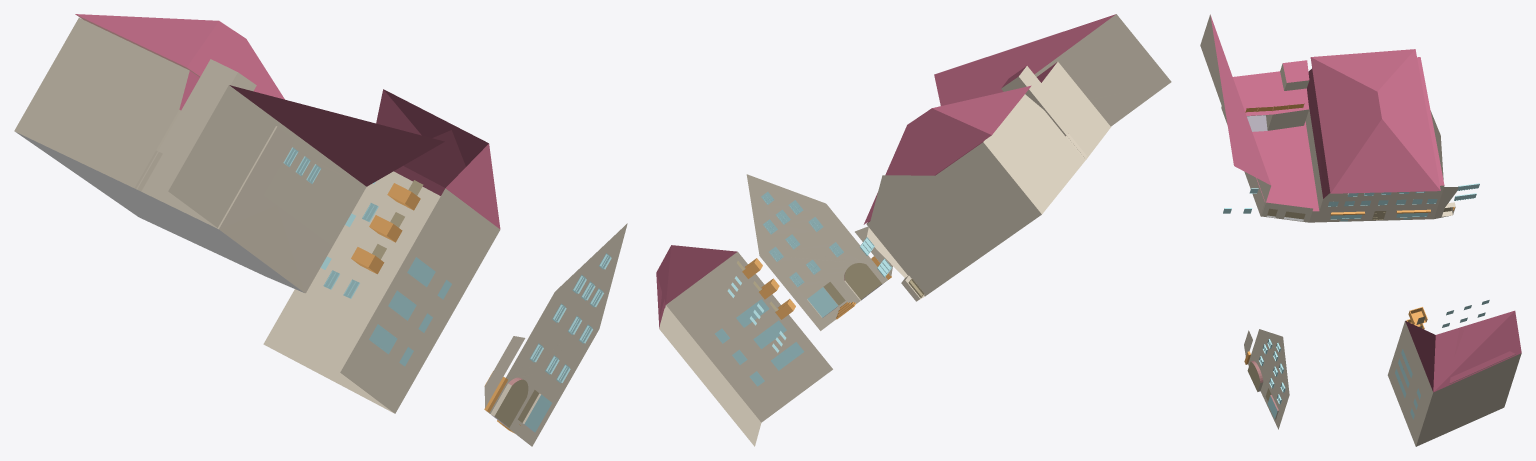
3 renders of one model, left to right at view 1: azimuth 30°, elevation 25°; view 2: azimuth 150°, elevation 25°; view 3: azimuth 270°, elevation 25°, orthographic. The views are drawn at different scales.
Visible parts, largest first — view 1: mesh; view 2: mesh; view 3: mesh.
Boxes of the visible parts, bbox=[...] form: mesh: bbox=[14, 14, 627, 446]; mesh: bbox=[656, 14, 1171, 446]; mesh: bbox=[1200, 14, 1521, 446].
Size of the model in its own units: 44 by 42.36 by 37.18.
